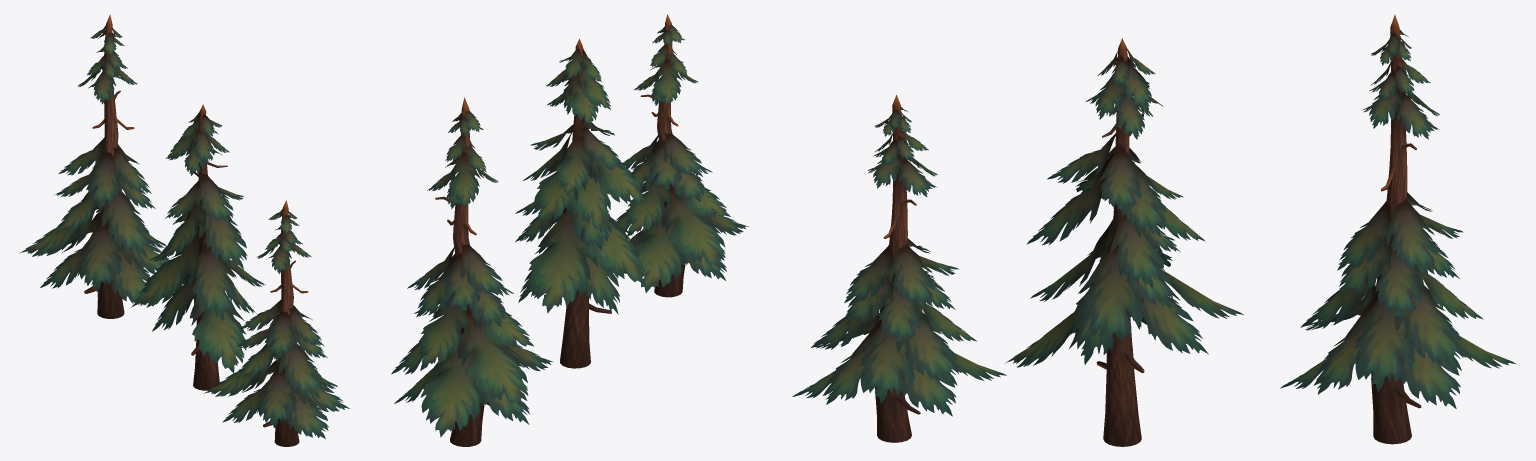
File: trees.fbx
The picture shows the model from 3 angles, left to right: view 1: azimuth 30°, elevation 25°; view 2: azimuth 150°, elevation 25°; view 3: azimuth 270°, elevation 25°; orthographic projection. The views are drawn at different scales.
Parts seen in each view (by area): view 1: Pinetree_Var2_Tall, Pinetree_Var1_Tall, Pinetree_Var1; view 2: Pinetree_Var1_Tall, Pinetree_Var2_Tall, Pinetree_Var1; view 3: Pinetree_Var1_Tall, Pinetree_Var2_Tall, Pinetree_Var1.
Boxes of the visible parts, x1,y1,x2,y2 form: Pinetree_Var2_Tall: (131, 104, 265, 390); Pinetree_Var1_Tall: (19, 14, 169, 318); Pinetree_Var1: (203, 200, 349, 446); Pinetree_Var1_Tall: (391, 97, 553, 446); Pinetree_Var2_Tall: (515, 38, 646, 368); Pinetree_Var1: (615, 14, 748, 297); Pinetree_Var1_Tall: (1280, 14, 1516, 444); Pinetree_Var2_Tall: (1005, 38, 1243, 446); Pinetree_Var1: (792, 95, 1006, 442).
Bounding box in the file's own units: 678 × 1446 × 2275.
